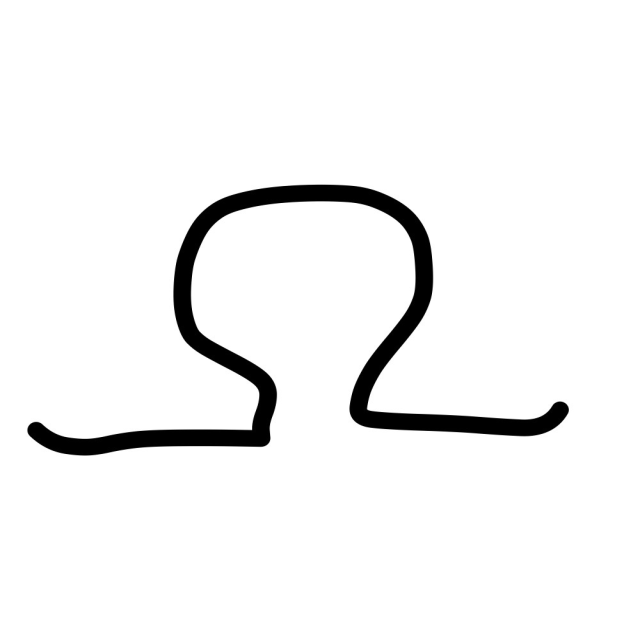ohms: (10, 86, 603, 555)
